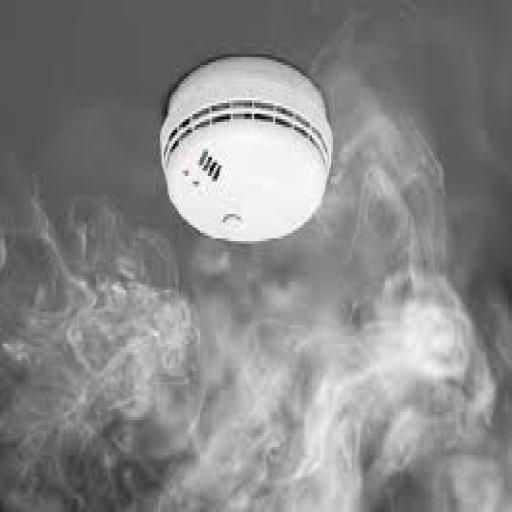smoke: (31, 211, 464, 512)
